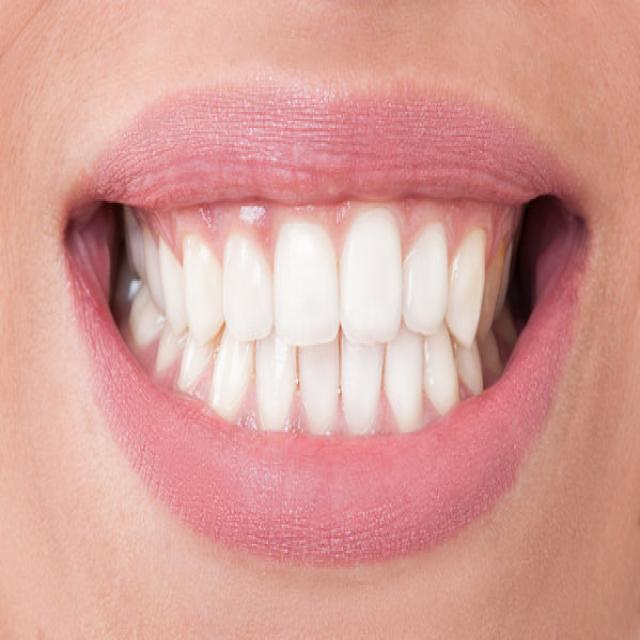tooth: (277, 230, 333, 340), (343, 238, 400, 332), (227, 244, 269, 334), (299, 340, 338, 432), (183, 244, 216, 342), (345, 343, 382, 430), (405, 255, 445, 332), (257, 341, 293, 423), (451, 254, 485, 340), (390, 342, 423, 428), (214, 348, 248, 418), (427, 340, 451, 410), (128, 295, 156, 350), (120, 215, 142, 277), (162, 251, 180, 325), (182, 348, 204, 406), (490, 251, 506, 327), (463, 348, 484, 404), (144, 235, 160, 302), (156, 334, 175, 377)
